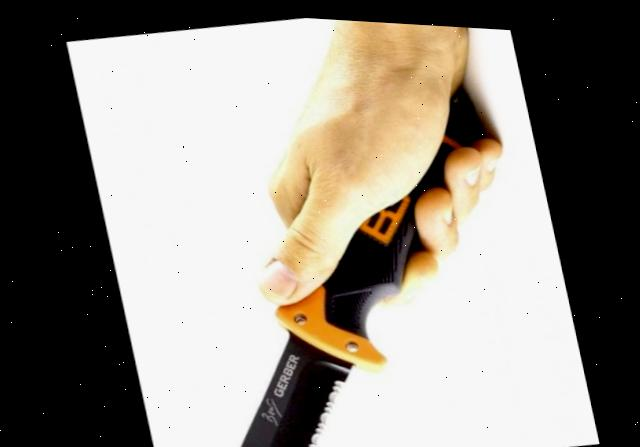pocket-knife: (104, 183, 483, 447)
